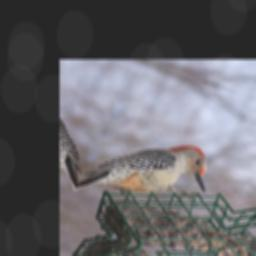Woodpecker: (76, 117, 223, 226)
